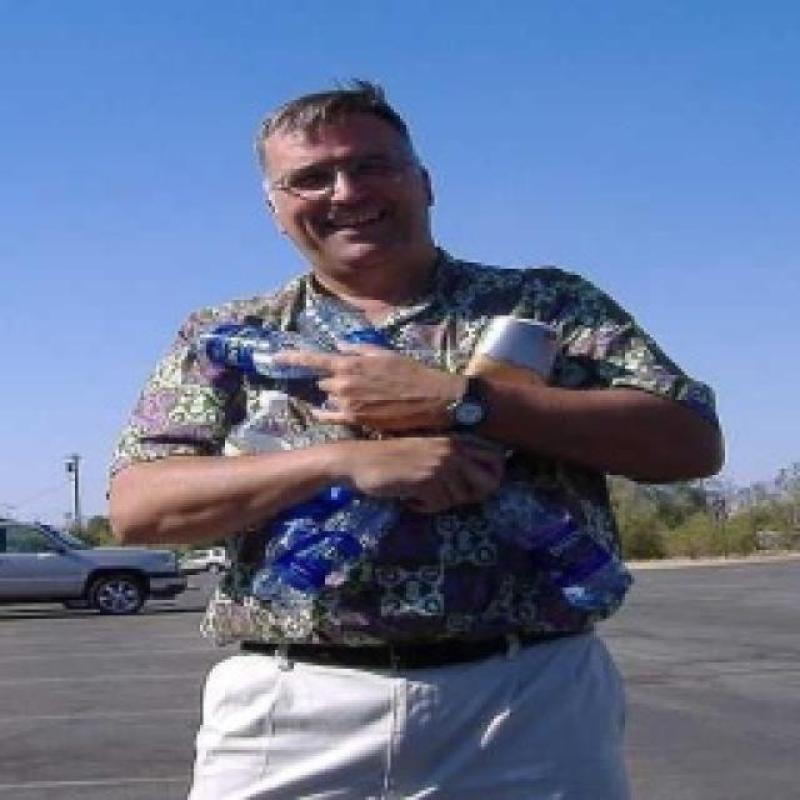botella: (484, 480, 634, 614), (284, 492, 397, 592), (254, 486, 352, 596), (196, 322, 332, 384), (299, 297, 386, 353)
